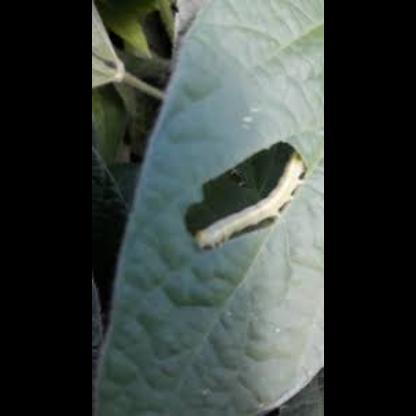agujero: (172, 132, 312, 256)
oruga: (188, 150, 306, 254)
